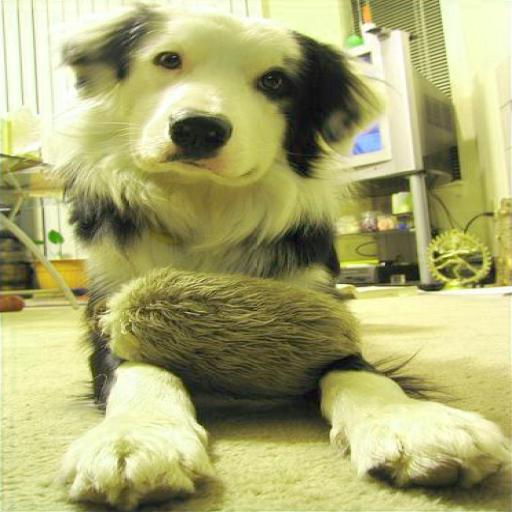dog_face: (63, 3, 379, 190)
